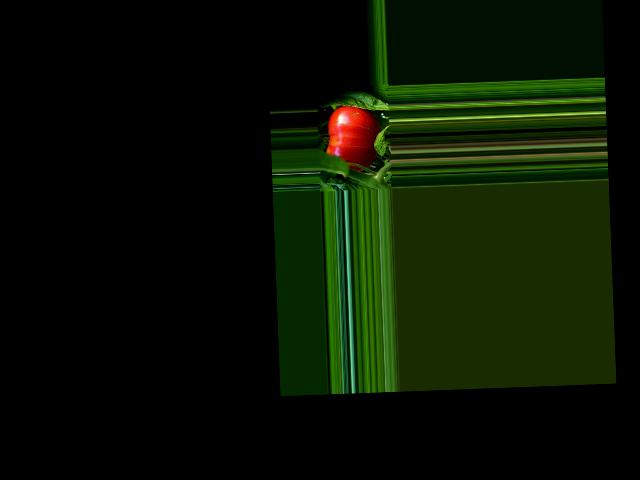tomato: (324, 104, 381, 173)
